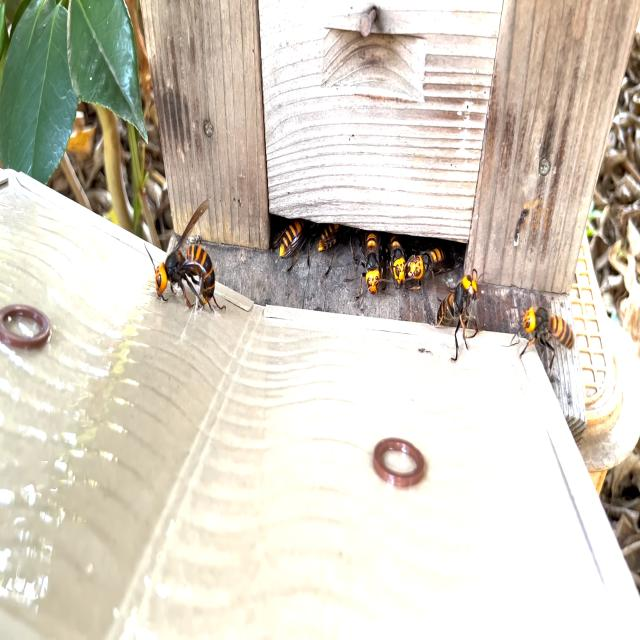Hornets: (144, 198, 225, 314), (434, 268, 484, 362), (510, 302, 576, 371), (355, 228, 384, 301), (407, 243, 448, 286), (388, 237, 407, 289)
